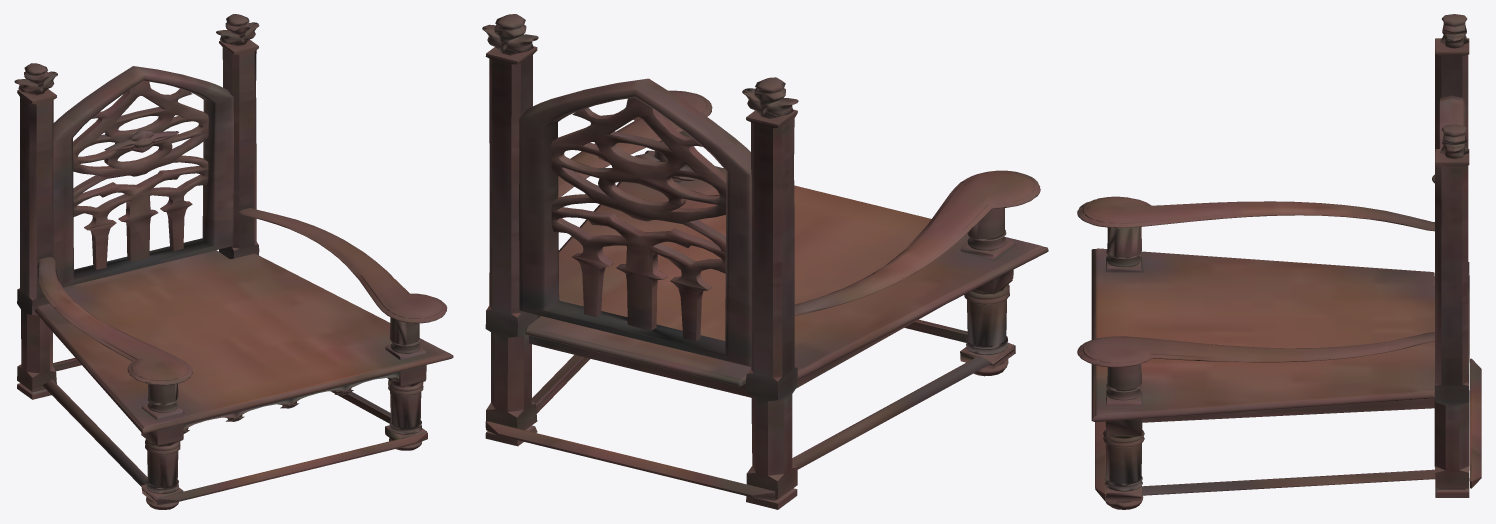
The model's file is ph-woodenchair-01.glb.
3 renders of one model, left to right at view 1: azimuth 30°, elevation 25°; view 2: azimuth 150°, elevation 25°; view 3: azimuth 270°, elevation 25°, orthographic. The views are drawn at different scales.
Visible parts, largest first — view 1: WoodenChair_01; view 2: WoodenChair_01; view 3: WoodenChair_01.
Part boxes in pixels (x1=…): WoodenChair_01: x1=14, y1=14, x2=453, y2=509; WoodenChair_01: x1=482, y1=14, x2=1048, y2=509; WoodenChair_01: x1=1077, y1=14, x2=1481, y2=509.
Size of the model in its own units: 1 by 1 by 1.
Materials: 1 (1 with a texture image).
